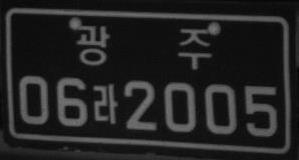0: (162, 81, 198, 134), (203, 83, 238, 136), (17, 74, 50, 126)
2: (123, 78, 159, 133)
5: (242, 84, 278, 138)
6: (54, 76, 89, 129)
광주_D: (74, 22, 214, 71)
라: (91, 82, 119, 126)
